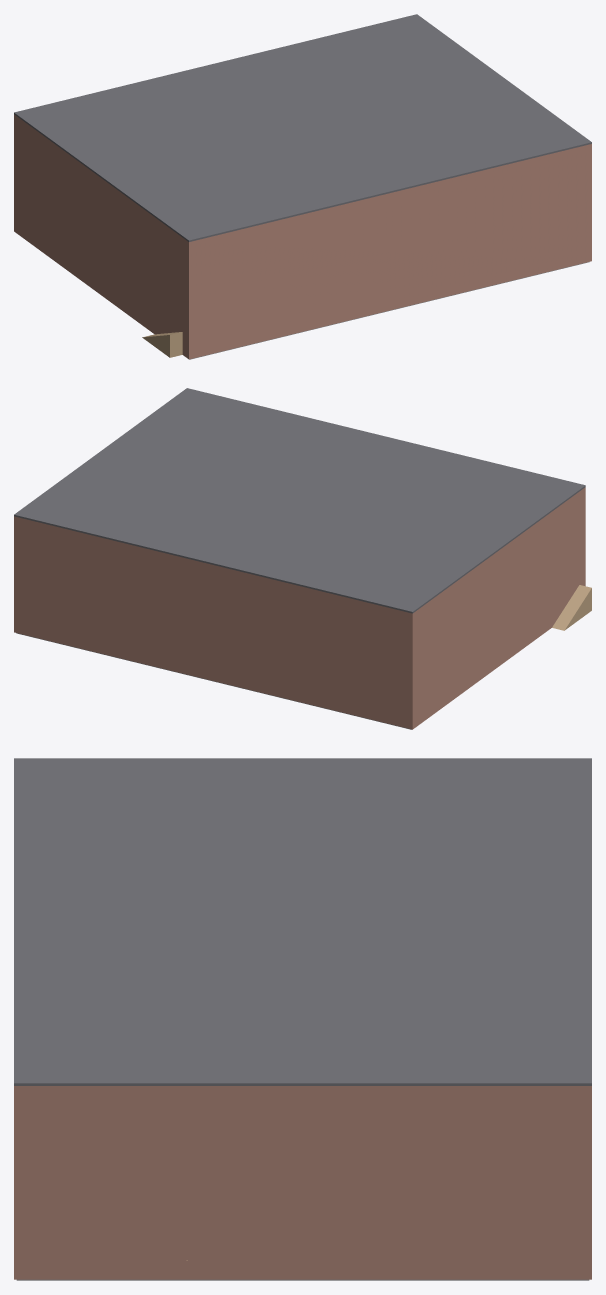
Rendered from warehouse.glb.
The picture shows the model from 3 angles, top to bottom: view 1: azimuth 30°, elevation 25°; view 2: azimuth 150°, elevation 25°; view 3: azimuth 270°, elevation 25°; orthographic projection. The views are drawn at different scales.
Parts seen in each view (by area): view 1: SM_Roof-col, SM_Wall_South-col, SM_Wall_West-col, T1_Ramp_SW-col; view 2: SM_Roof-col, SM_Wall_North-col, SM_Wall_West-col, T1_Ramp_SW-col; view 3: SM_Roof-col, SM_Wall_East-col, SM_Floor-col.
Boxes of the visible parts, <box> form: SM_Roof-col: <box>14,14,591,241</box>; SM_Wall_South-col: <box>188,144,591,359</box>; SM_Wall_West-col: <box>14,115,187,358</box>; T1_Ramp_SW-col: <box>142,332,182,357</box>; SM_Roof-col: <box>14,388,585,613</box>; SM_Wall_North-col: <box>14,516,413,729</box>; SM_Wall_West-col: <box>413,488,584,728</box>; T1_Ramp_SW-col: <box>552,585,591,630</box>; SM_Roof-col: <box>14,758,591,1085</box>; SM_Wall_East-col: <box>16,1086,589,1279</box>; SM_Floor-col: <box>16,1279,589,1280</box>.
Size of the model in its own units: 104 by 28.7 by 75.7.
